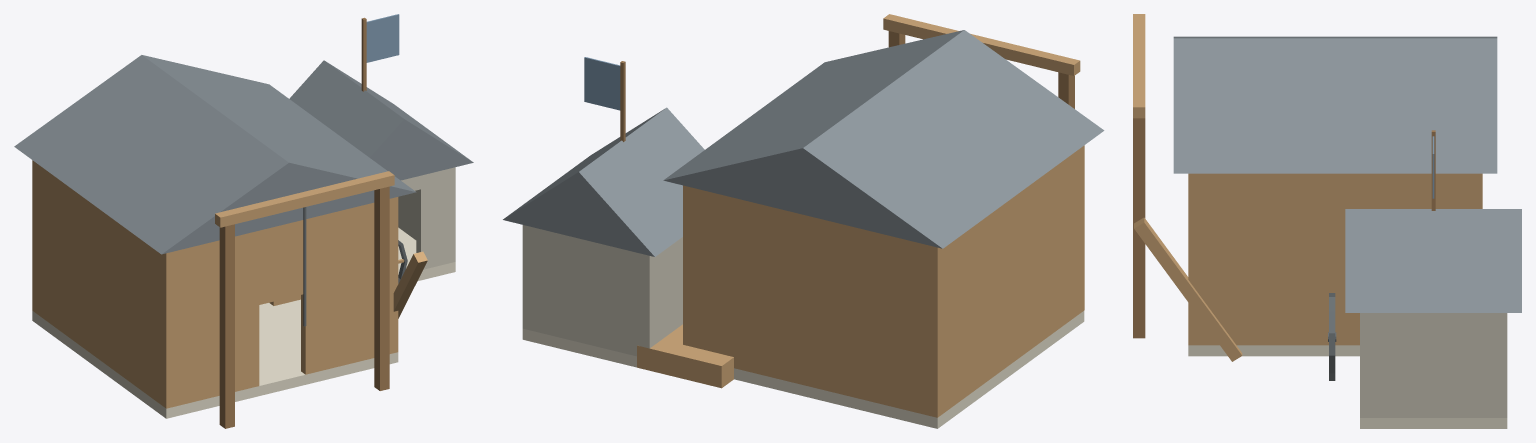
The model's file is siege-workshop-upgraded.glb.
3 renders of one model, left to right at view 1: azimuth 30°, elevation 25°; view 2: azimuth 150°, elevation 25°; view 3: azimuth 270°, elevation 25°, orthographic. The views are drawn at different scales.
Visible parts, largest first — view 1: siege-workshop-upgraded; view 2: siege-workshop-upgraded; view 3: siege-workshop-upgraded.
Boxes of the visible parts, box(x1,y1,x2,y2) form: siege-workshop-upgraded: box(14, 14, 473, 428); siege-workshop-upgraded: box(503, 14, 1104, 428); siege-workshop-upgraded: box(1133, 14, 1521, 428).
Size of the model in its own units: 10.1 by 6.07 by 7.93.
